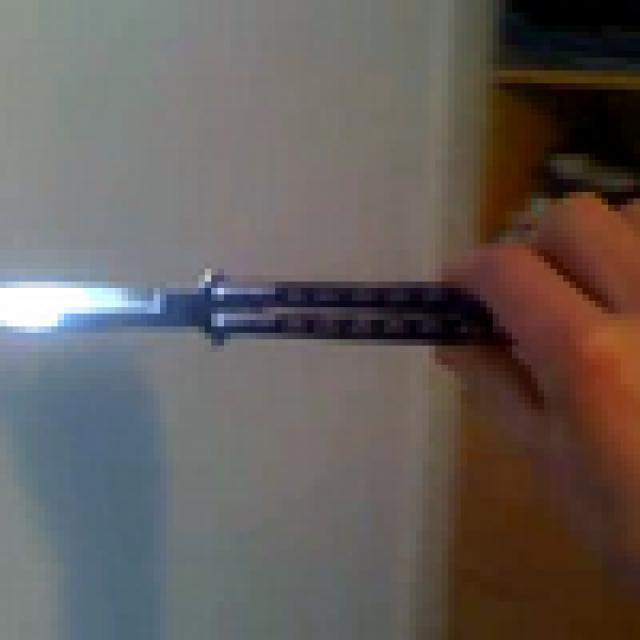knife: (0, 230, 531, 436)
